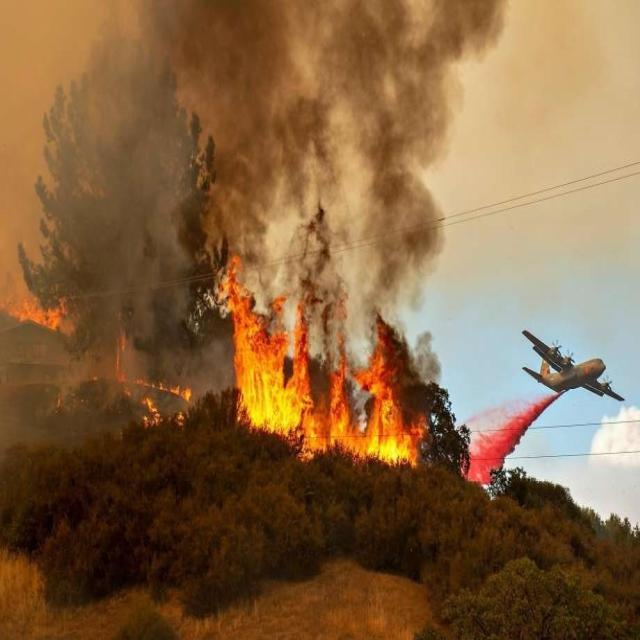Fire: (212, 256, 430, 471), (115, 331, 192, 431), (8, 296, 68, 331)
Smoke: (1, 1, 510, 458)
